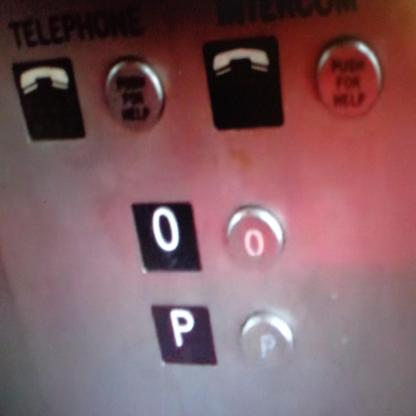0: (130, 196, 202, 275), (223, 202, 286, 272)
P: (148, 301, 219, 370), (237, 305, 295, 374)
call: (202, 34, 286, 130), (10, 54, 86, 144)
text_blur: (312, 34, 386, 119), (101, 53, 166, 133)
